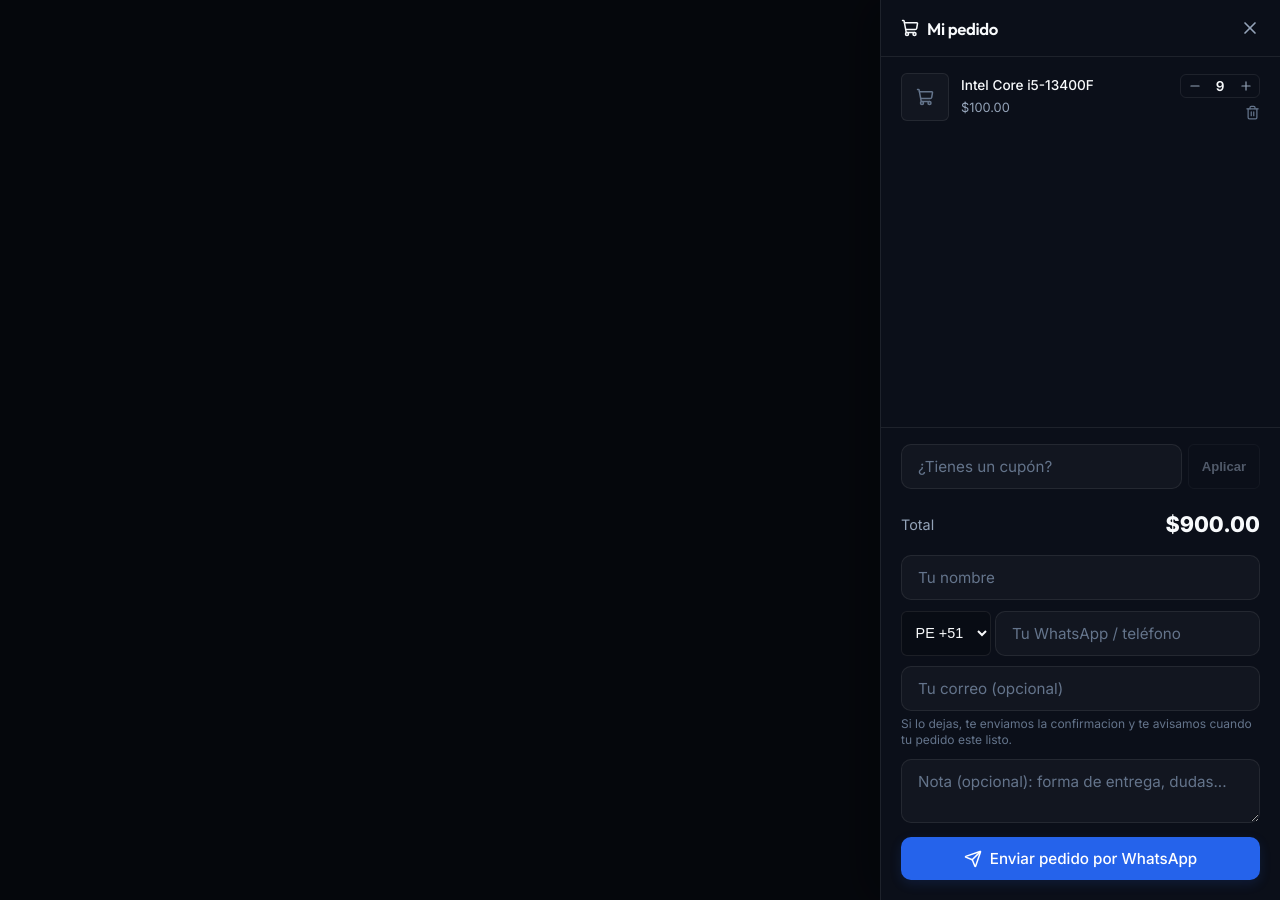
Test case: CartDrawer (checkout) › al llegar al tramo baja el precio de la línea y lo dice
The width and height of the screenshot is (1280, 900).
expect the text "$900.00" is shown: met, box [1165,508,1260,541]
expect the text "Precio por mayor" is not shown: met
Click the button named "Más". click: x=1246, y=86
box: [1232,76,1259,98]
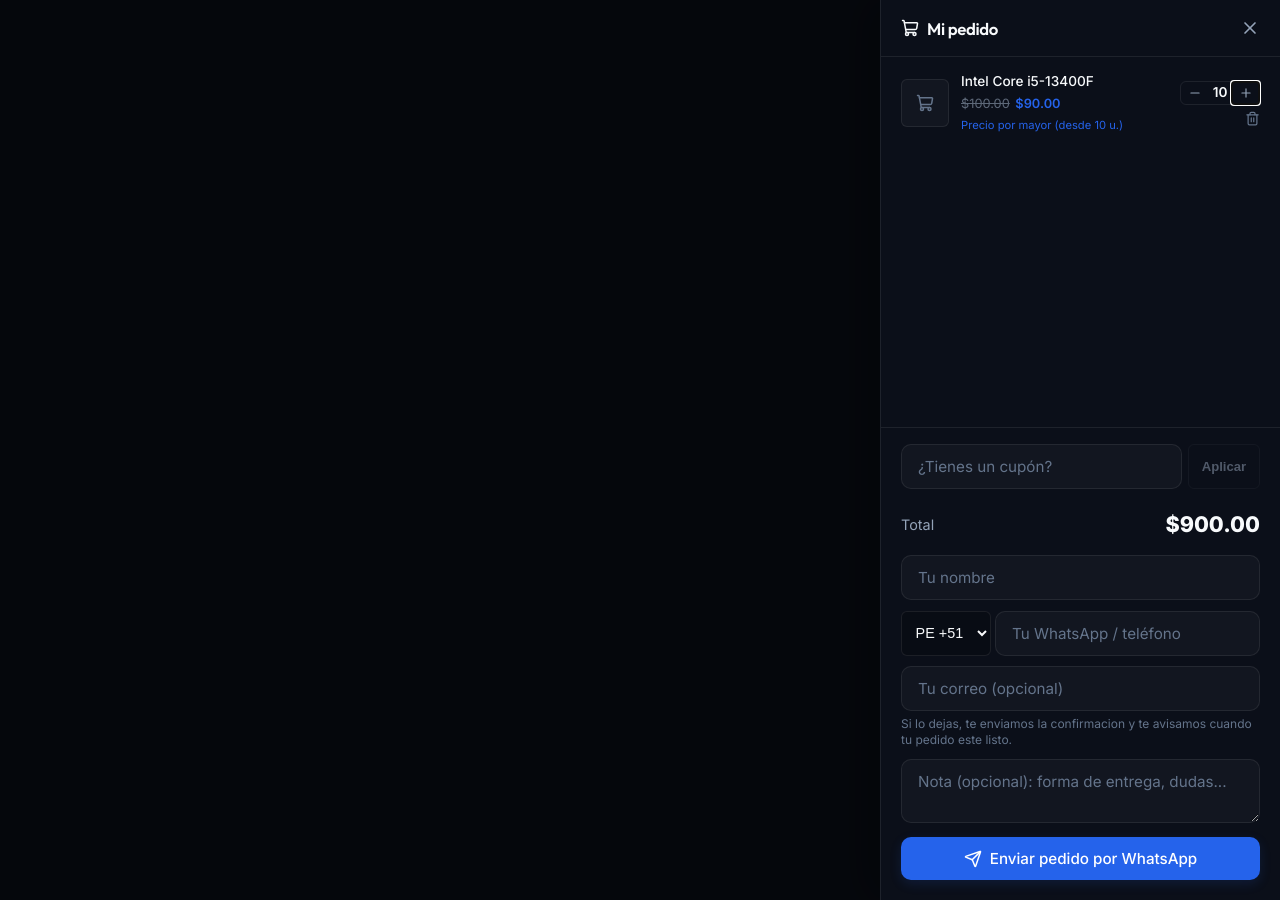
expect the text "$900.00" is shown: met, box [1165,508,1260,541]
expect the text "Precio por mayor (desde 10 u.)" is shown: met, box [961,118,1123,132]
